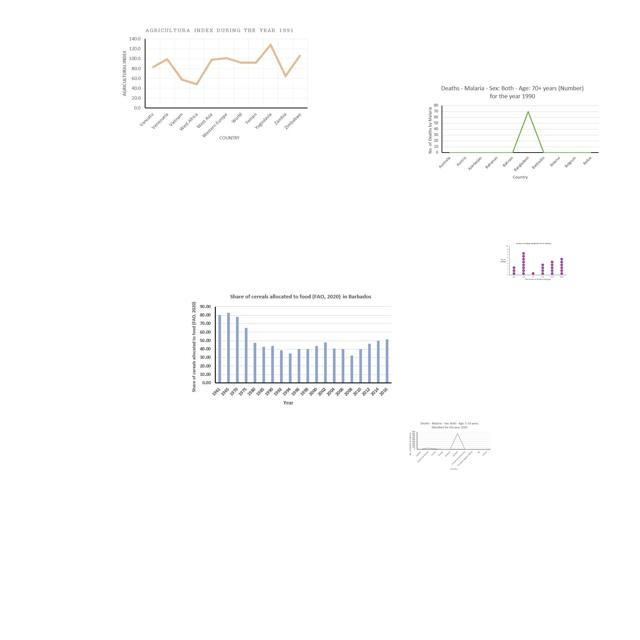Graph: (188, 290, 395, 408), (116, 25, 312, 141), (425, 82, 602, 183), (407, 421, 492, 472), (498, 241, 568, 282)
